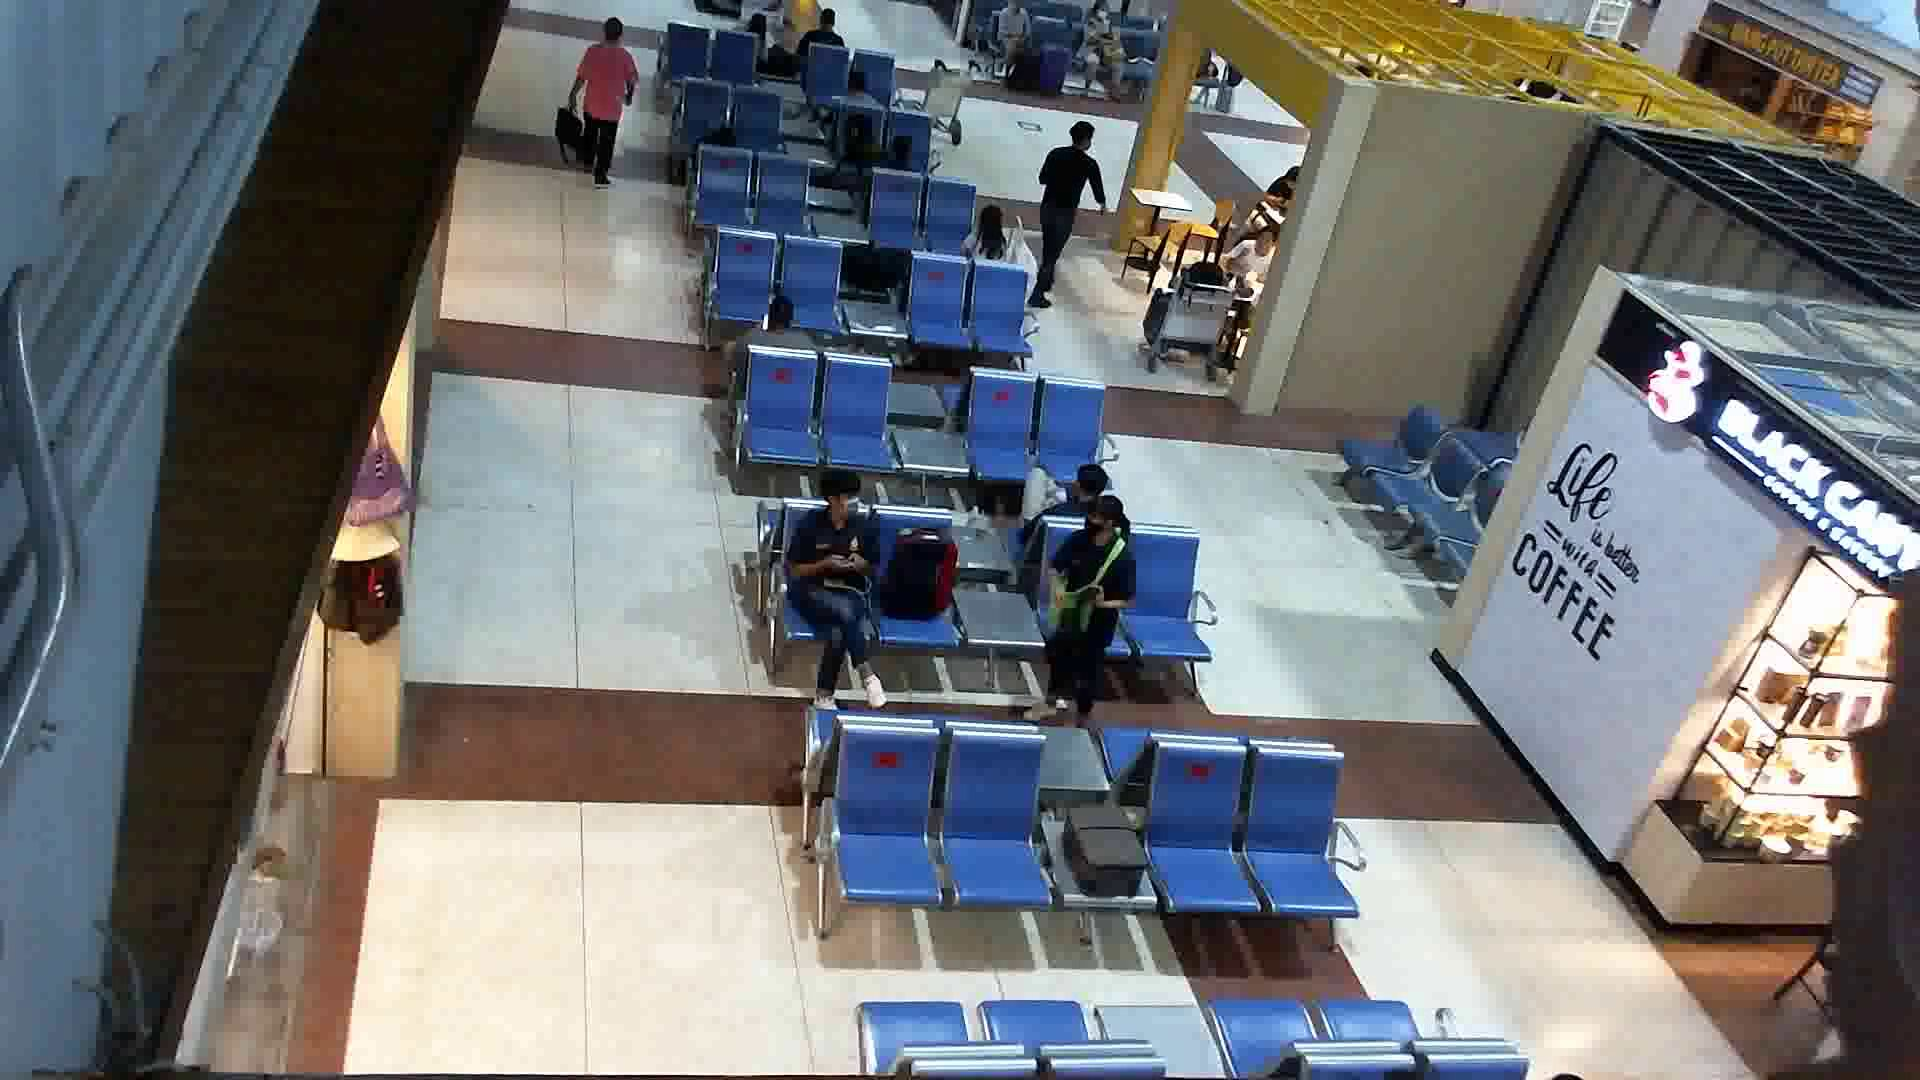bag: (335, 402, 417, 540), (542, 99, 593, 166)
luggage: (1057, 788, 1157, 907), (880, 518, 973, 633)
people: (773, 470, 900, 723), (1032, 498, 1146, 734), (555, 5, 651, 199), (1025, 114, 1115, 314), (1013, 456, 1129, 556), (954, 204, 1026, 276)
